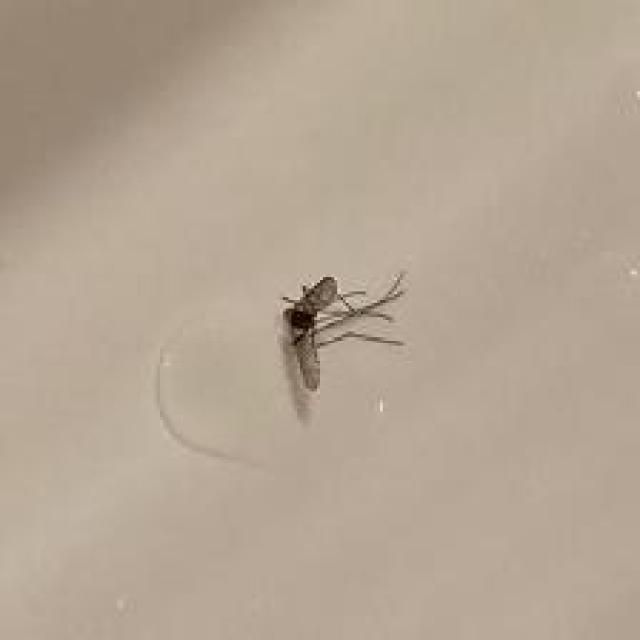Culex: (277, 269, 409, 397)
